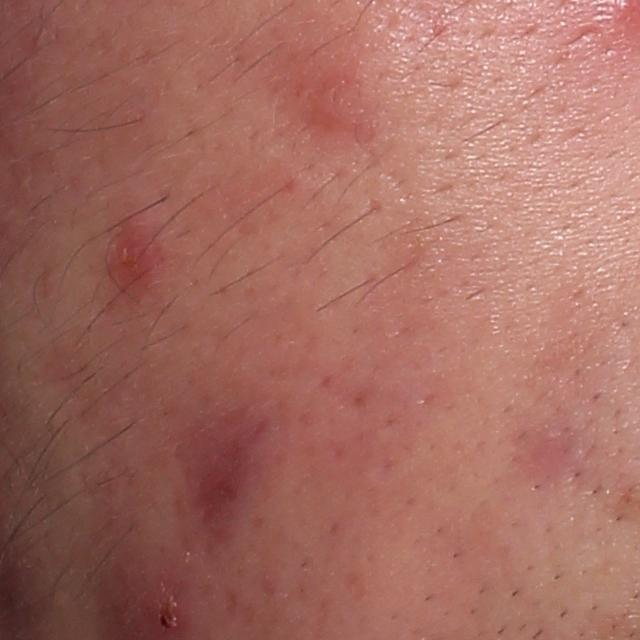papule: (104, 210, 180, 297)
